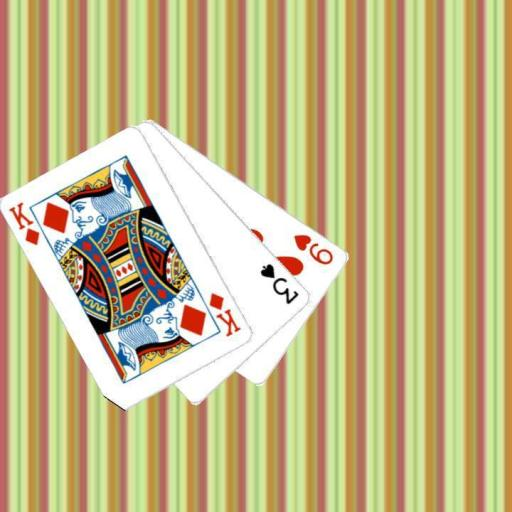card-corner: (257, 260, 301, 306), (206, 288, 243, 338), (6, 199, 42, 248), (290, 230, 336, 267)
